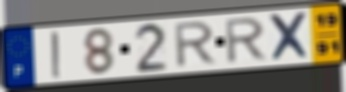2: (134, 21, 169, 74)
8: (81, 26, 116, 76)
I: (49, 30, 64, 80)
R: (224, 15, 270, 66), (174, 19, 219, 70)
X: (266, 10, 314, 63)
